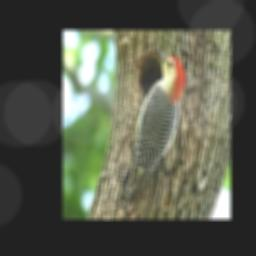Woodpecker: (113, 48, 184, 214)
